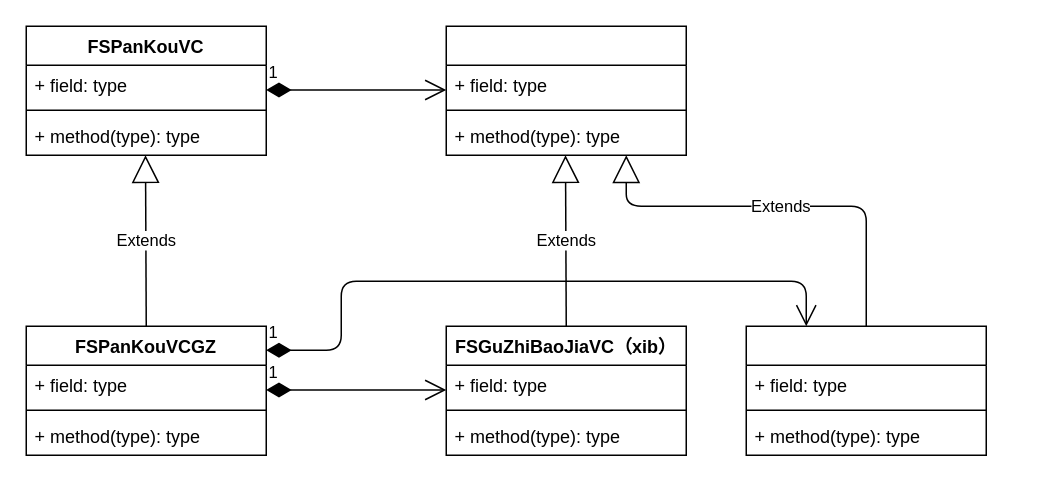
Some shapes in this 1059 by 486 pixel diagram are drawn without their labels. Each missing label, with the box of its shape:
FSBaseBaoJiaVC: (445, 25, 686, 155)
FSGuZhiBaoJiaNewVersionVC（新版）: (745, 325, 986, 455)
